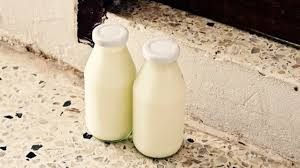milk: (137, 40, 189, 168), (79, 26, 131, 142)
